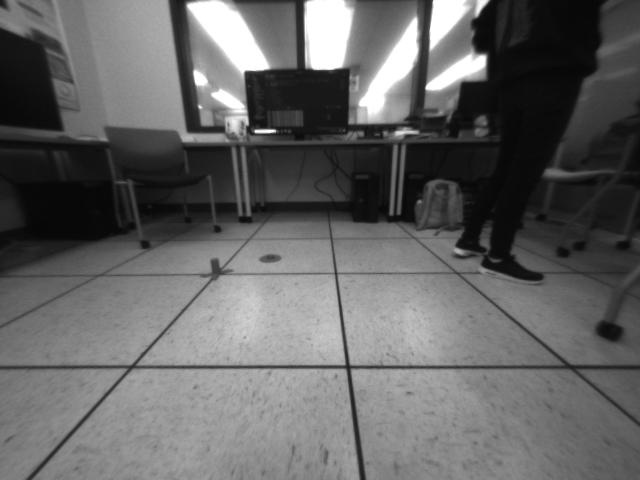X: (198, 256, 235, 281)
